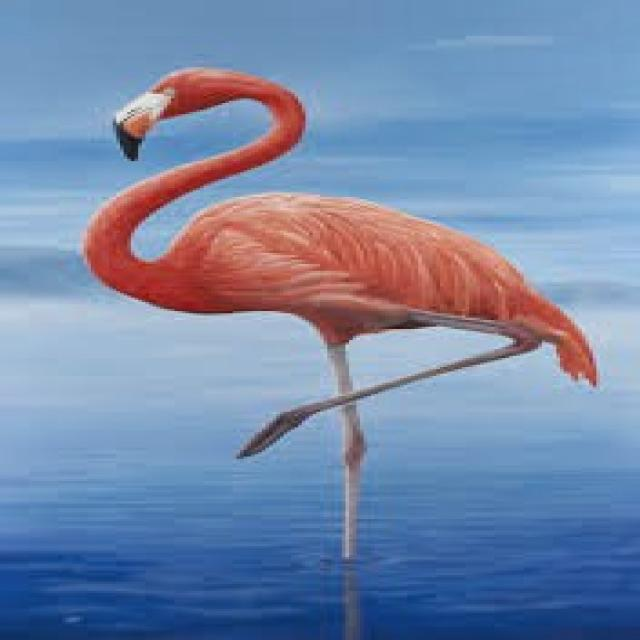flamingo: (84, 69, 593, 559)
